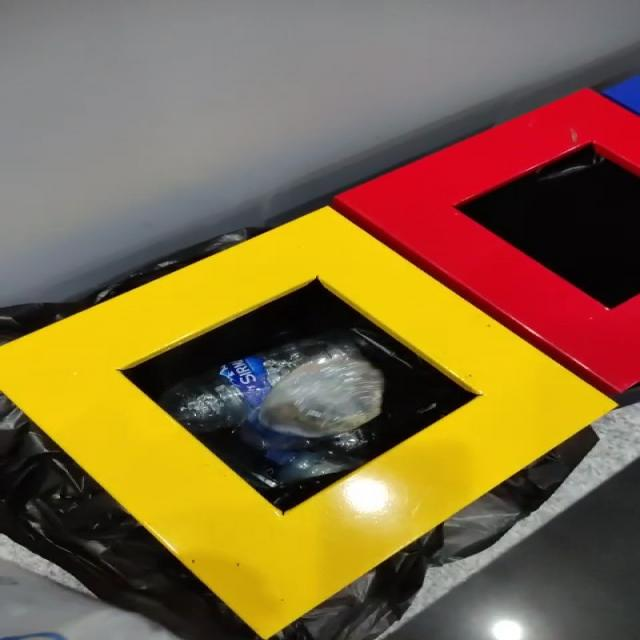plastic: (159, 332, 385, 485)
